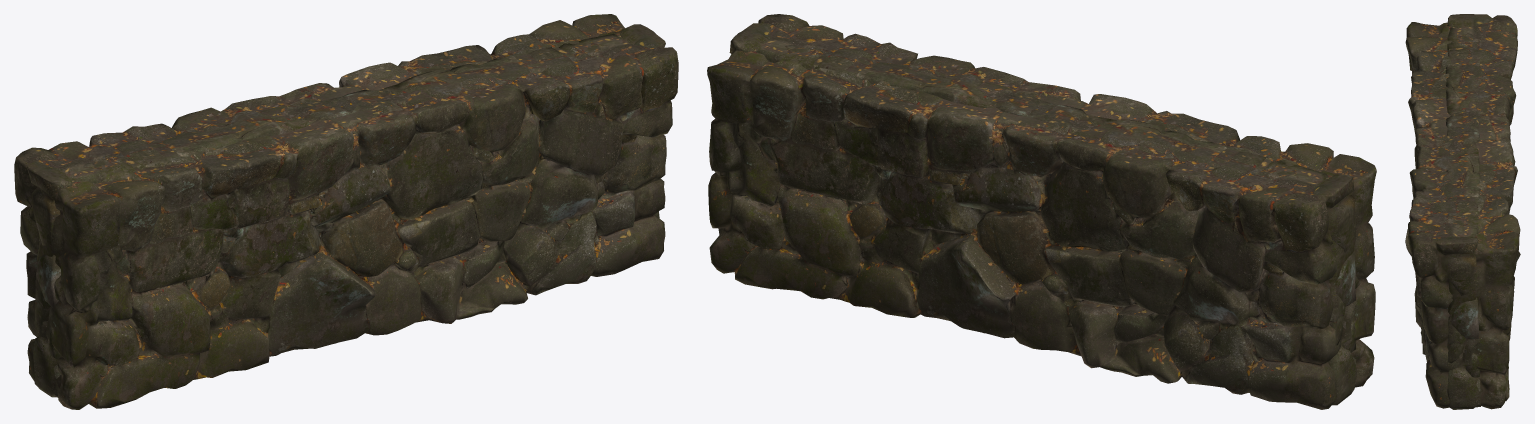
Rendered from MossyStone.fbx.
3 views of the same model, side by side, from view 1: azimuth 30°, elevation 25°; view 2: azimuth 150°, elevation 25°; view 3: azimuth 270°, elevation 25° (orthographic). The views are drawn at different scales.
Parts seen in each view (by area): view 1: ulldfby_LOD0_TIER2_000.001, ulldfby_LOD0_TIER2_000.002; view 2: ulldfby_LOD0_TIER2_000.002, ulldfby_LOD0_TIER2_000.001; view 3: ulldfby_LOD0_TIER2_000.002, ulldfby_LOD0_TIER2_000.001.
Boxes of the visible parts, x1,y1,x2,y2 form: ulldfby_LOD0_TIER2_000.001: (33, 24, 678, 409); ulldfby_LOD0_TIER2_000.002: (14, 14, 659, 397); ulldfby_LOD0_TIER2_000.002: (707, 45, 1356, 409); ulldfby_LOD0_TIER2_000.001: (729, 14, 1376, 405); ulldfby_LOD0_TIER2_000.002: (1446, 14, 1520, 409); ulldfby_LOD0_TIER2_000.001: (1405, 22, 1480, 408).
Bounding box in the file's own units: 633 × 221 × 135.
Materials: 2 (2 with a texture image).
